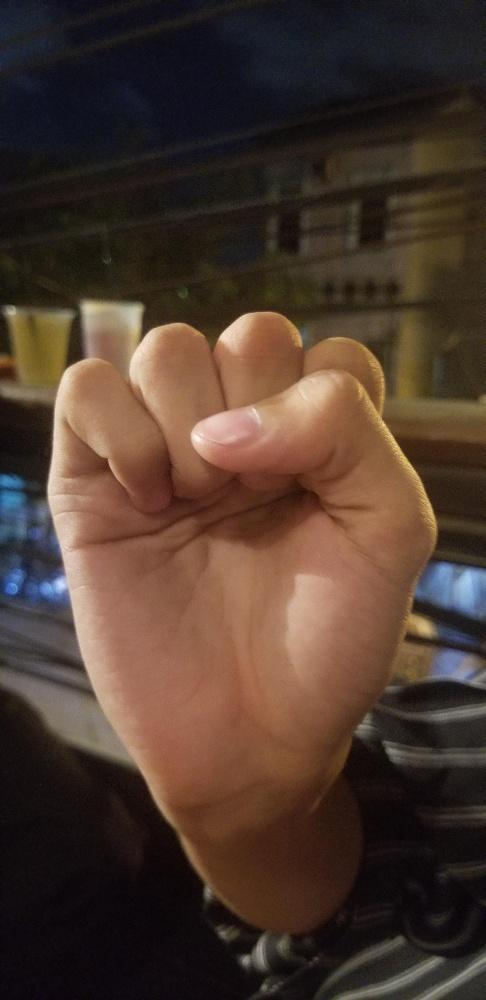s: (42, 302, 442, 787)
